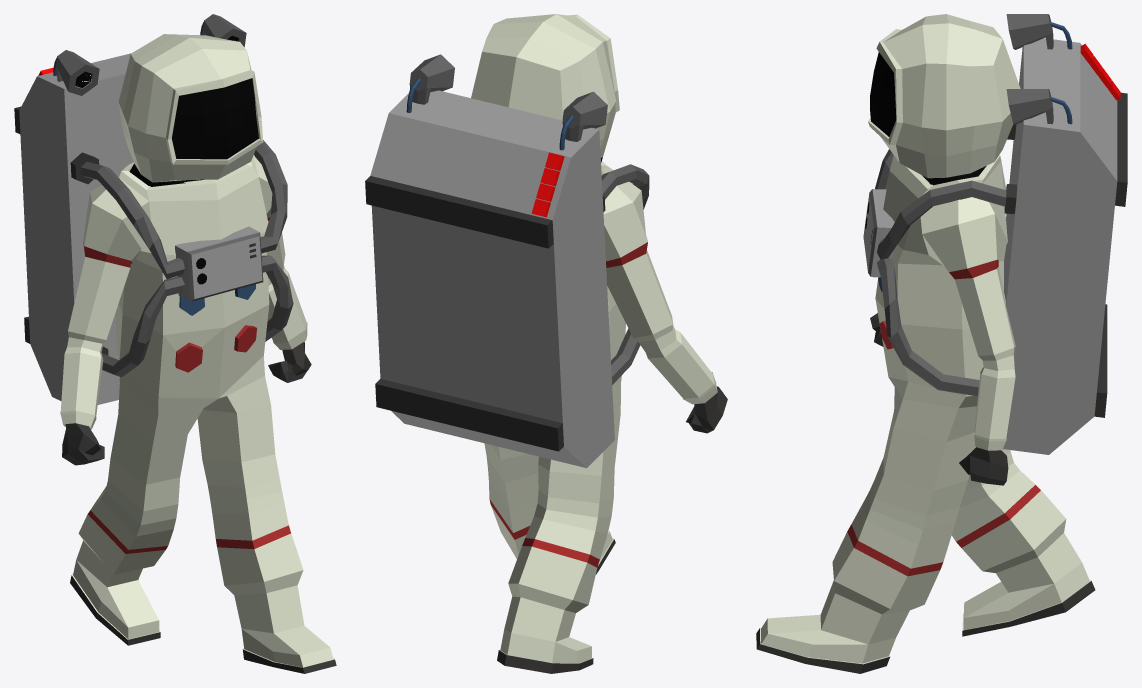
The model's file is astro.obj.
3 renders of one model, left to right at view 1: azimuth 30°, elevation 25°; view 2: azimuth 150°, elevation 25°; view 3: azimuth 270°, elevation 25°, orthographic. The views are drawn at different scales.
Visible parts, largest first — view 1: Astronauta1; view 2: Astronauta1; view 3: Astronauta1.
Part boxes in pixels (<box>): Astronauta1: <box>14,14,336,673</box>; Astronauta1: <box>365,14,727,673</box>; Astronauta1: <box>756,14,1127,673</box>.
Size of the model in its own units: 0.9051 by 1.82 by 0.9813.
1 material, 1 textured.
